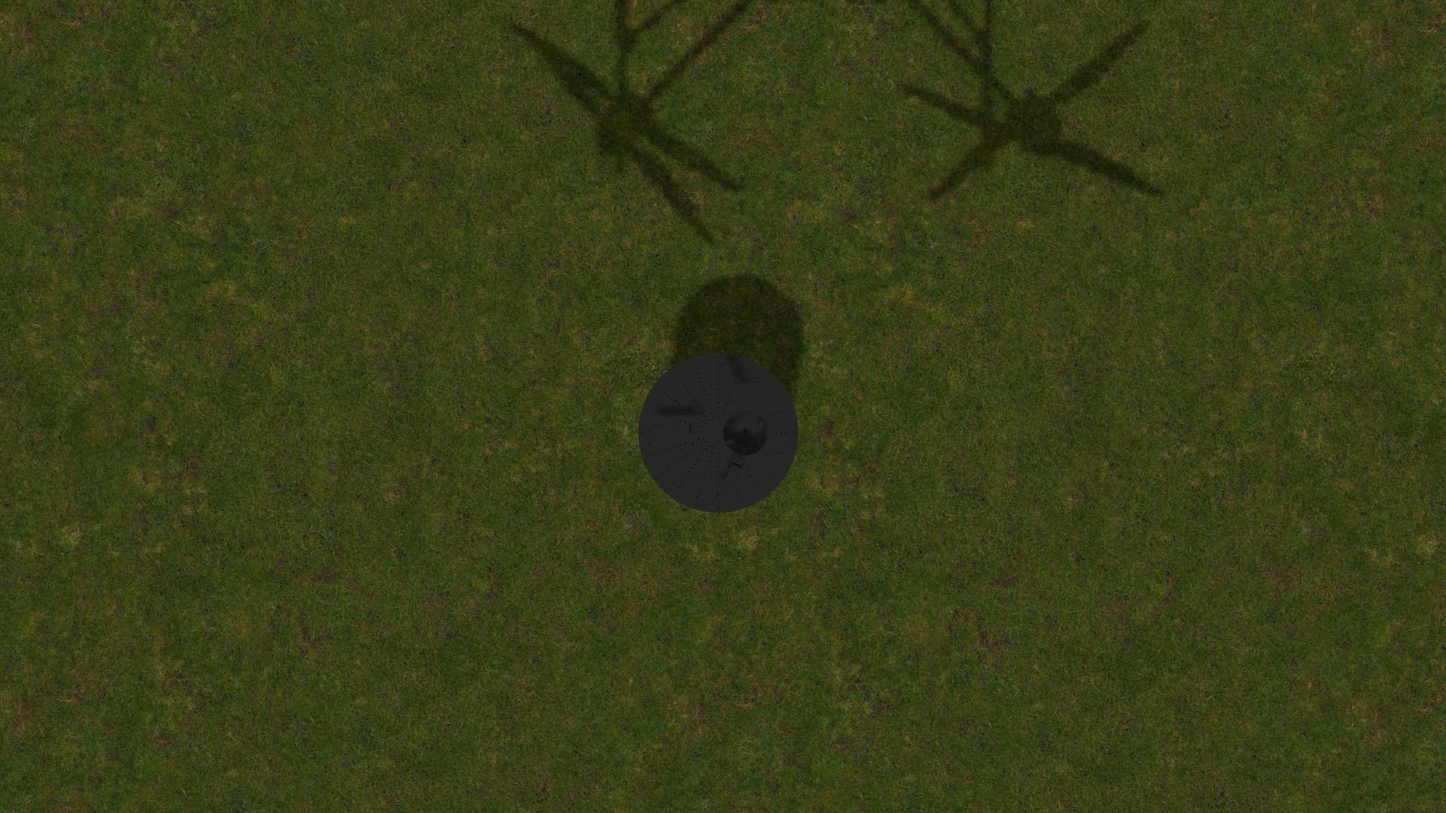alca: (713, 457, 743, 506), (715, 358, 744, 407), (646, 423, 697, 435)
armadilha: (638, 352, 798, 513)
